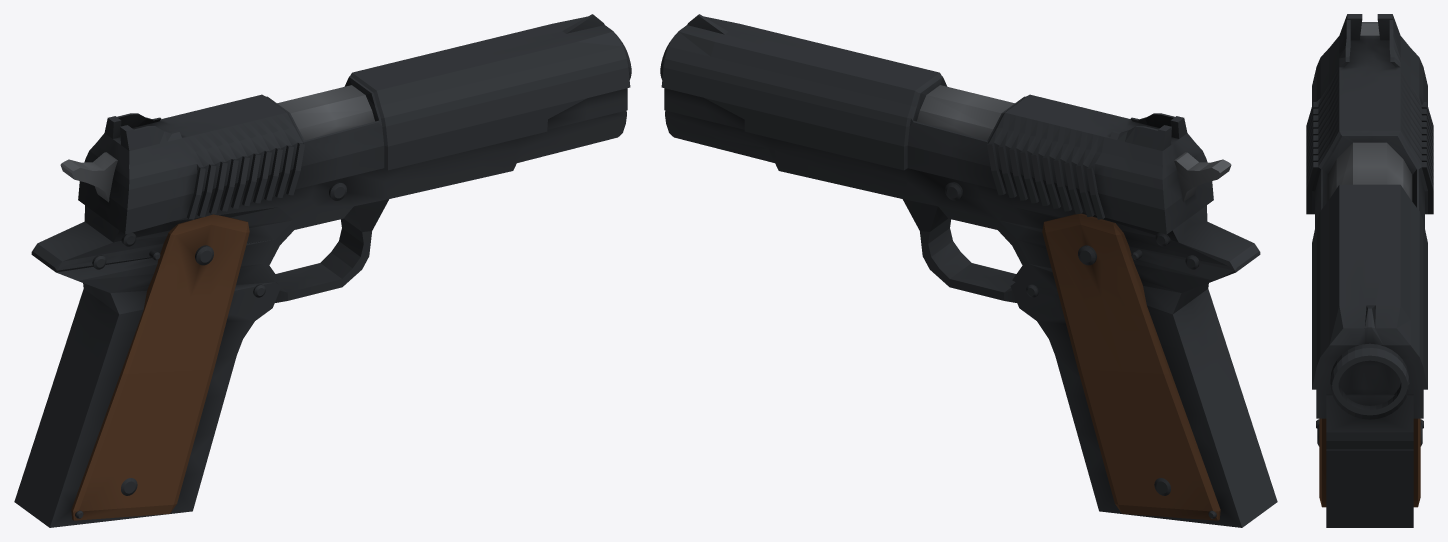
3 renders of one model, left to right at view 1: azimuth 30°, elevation 25°; view 2: azimuth 150°, elevation 25°; view 3: azimuth 270°, elevation 25°, orthographic. The views are drawn at different scales.
Visible parts, largest first — view 1: body; view 2: body; view 3: body.
Boxes of the visible parts, box(x1,y1,x2,y2) form: body: box(14, 14, 631, 527); body: box(660, 14, 1277, 527); body: box(1306, 14, 1433, 527).
Size of the model in its own units: 0.22 by 0.1396 by 0.0336.
